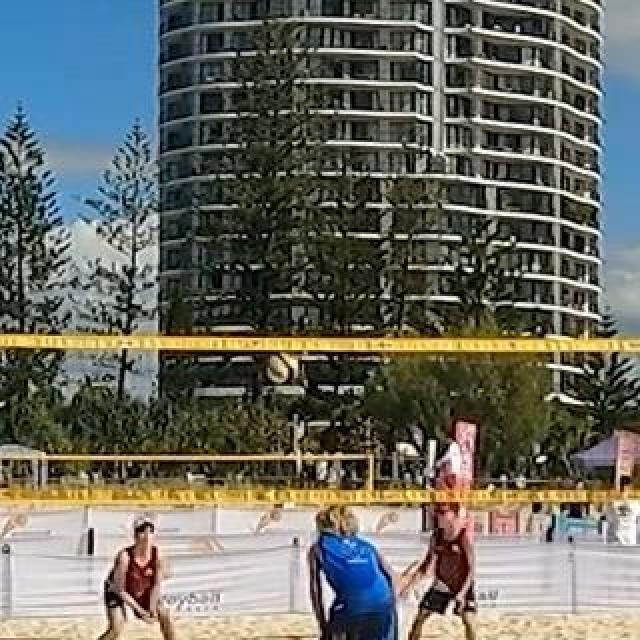volleyball: (268, 352, 300, 384)
